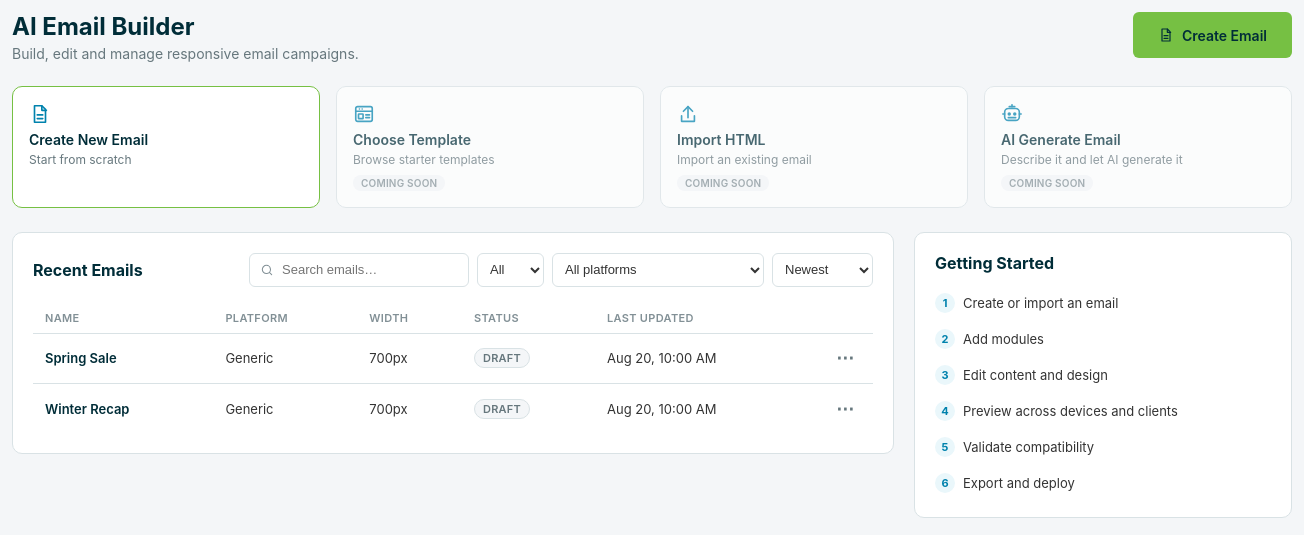
EmailBuilderDashboardPage — search, filter, sort › filters by name as the user types
Check: the link "Spring Sale" is shown, box [45,350,117,366]
Type "winter" into the search field with placeholder "Search emails…" at x=370, y=270, box [280,261,460,278]
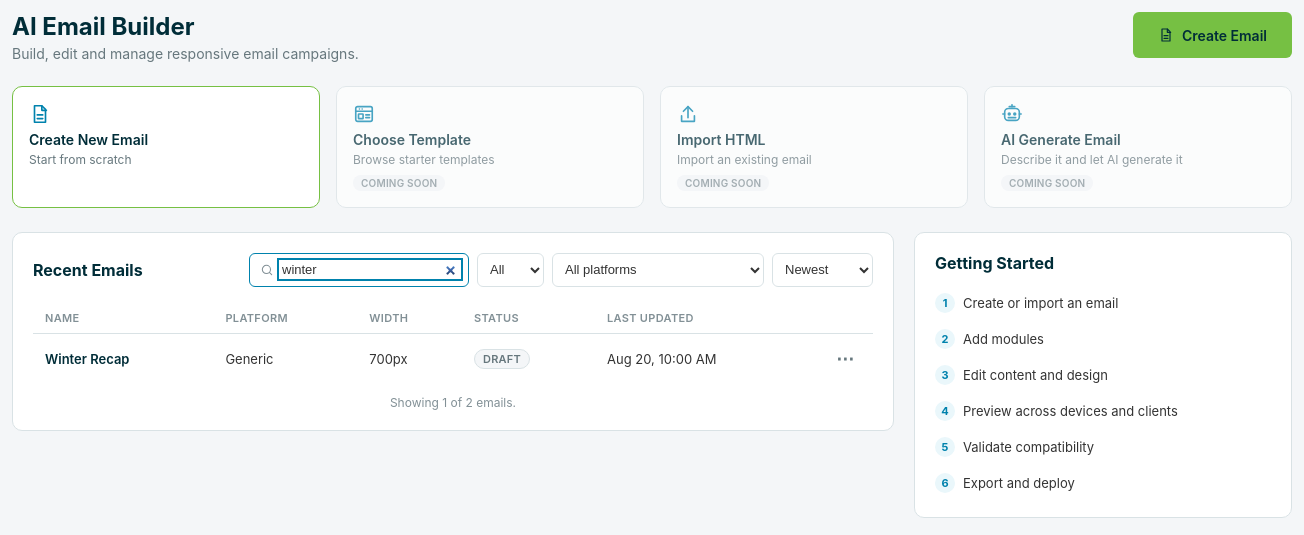
Check: the link "Winter Recap" is shown, box [45,350,130,366]
Check: the link "Spring Sale" is gone
